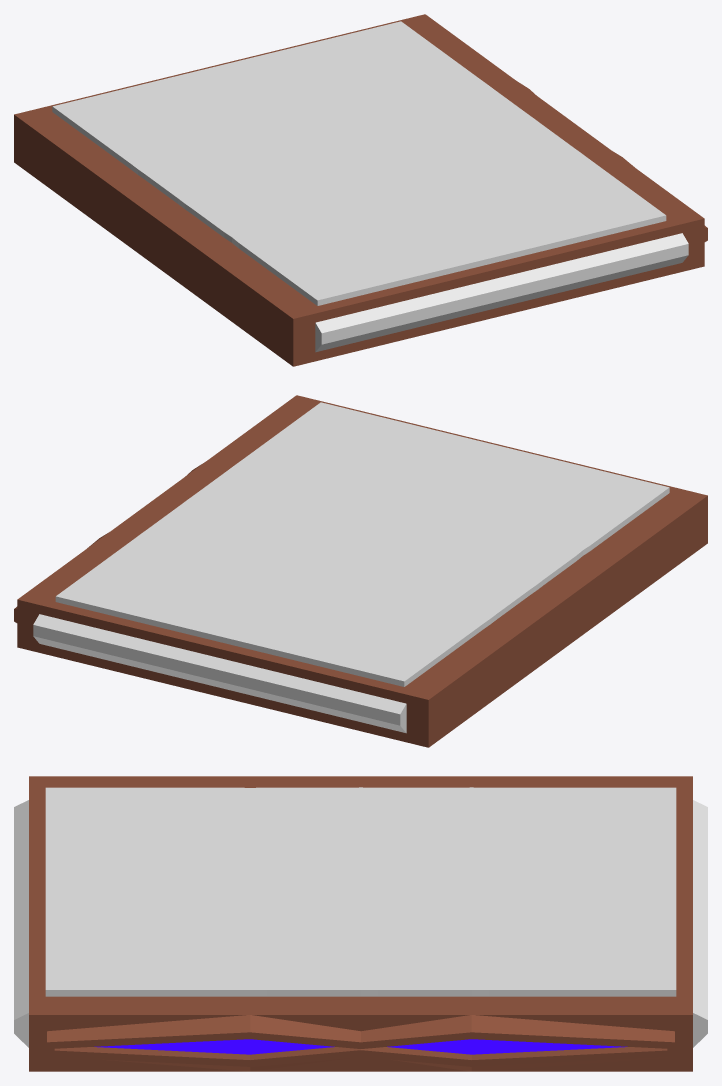
The model's file is passthrough_pf.fbx.
3 renders of one model, top to bottom at view 1: azimuth 30°, elevation 25°; view 2: azimuth 150°, elevation 25°; view 3: azimuth 270°, elevation 25°, orthographic. The views are drawn at different scales.
Visible parts, largest first — view 1: Dropthrough Platform; view 2: Dropthrough Platform; view 3: Dropthrough Platform.
Boxes of the visible parts, <box> form: Dropthrough Platform: <box>14,14,707,366</box>; Dropthrough Platform: <box>14,395,707,747</box>; Dropthrough Platform: <box>14,776,707,1071</box>.
Size of the model in its own units: 524 by 63.48 by 627.
